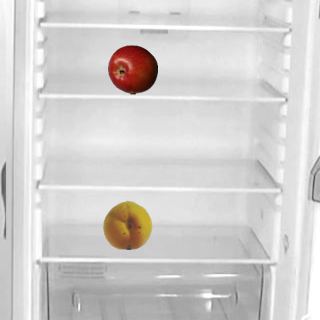Apple Braeburn: (107, 44, 157, 94)
Peach 2: (102, 199, 152, 249)
